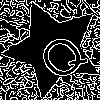Q: (28, 23, 91, 86)
